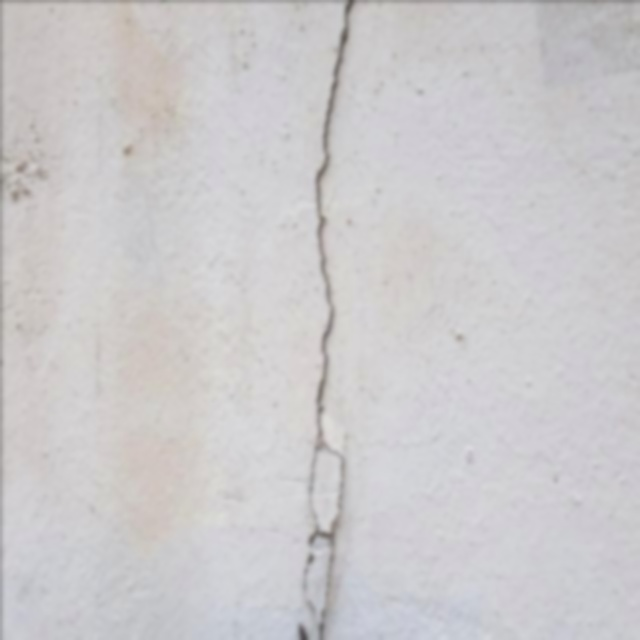SurfaceCrack: (266, 1, 389, 638)
